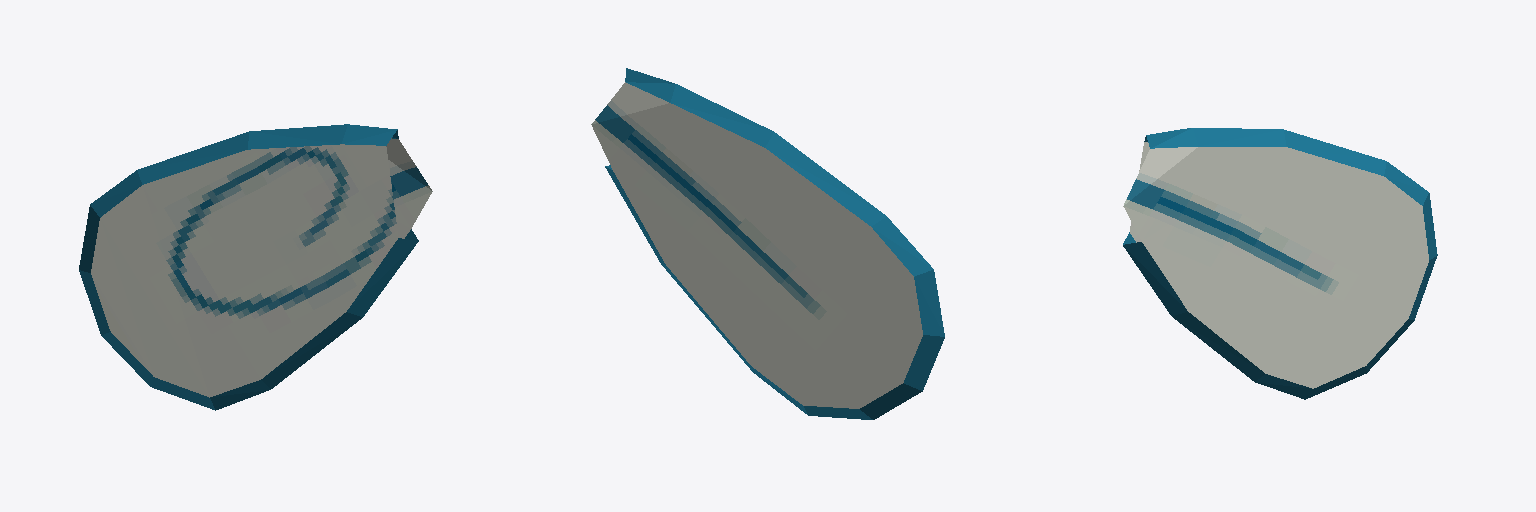
3 views of the same model, side by side, from view 1: azimuth 30°, elevation 25°; view 2: azimuth 210°, elevation 25°; view 3: azimuth 270°, elevation 25° (orthographic).
Visible parts, largest first — view 1: CosmoRight:pasted__polySurface50pasted__polySurface44group52; view 2: CosmoRight:pasted__polySurface50pasted__polySurface44group52; view 3: CosmoRight:pasted__polySurface50pasted__polySurface44group52.
Boxes of the visible parts, <box> form: CosmoRight:pasted__polySurface50pasted__polySurface44group52: <box>79,124,432,410</box>; CosmoRight:pasted__polySurface50pasted__polySurface44group52: <box>591,68,944,419</box>; CosmoRight:pasted__polySurface50pasted__polySurface44group52: <box>1123,128,1437,399</box>.
Size of the model in its own units: 0.0729 by 0.1113 by 0.1011.
Materials: 1 (1 with a texture image).